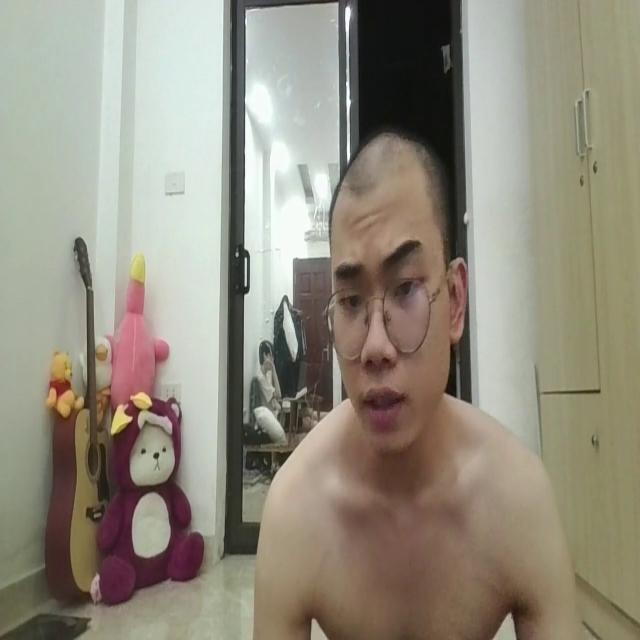extra_person: (253, 314, 305, 458)
student: (238, 125, 584, 640)
